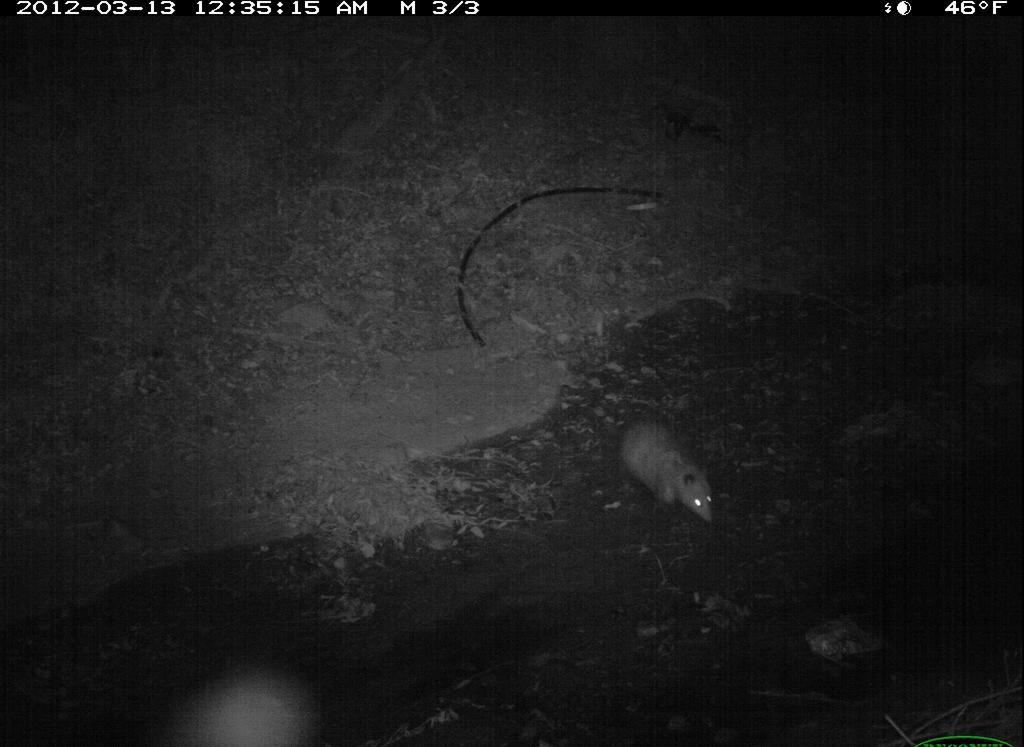opossum: (609, 382, 726, 536)
